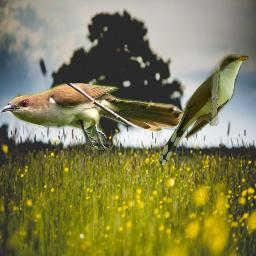Cuckoo: (0, 83, 190, 150), (159, 54, 249, 165)
